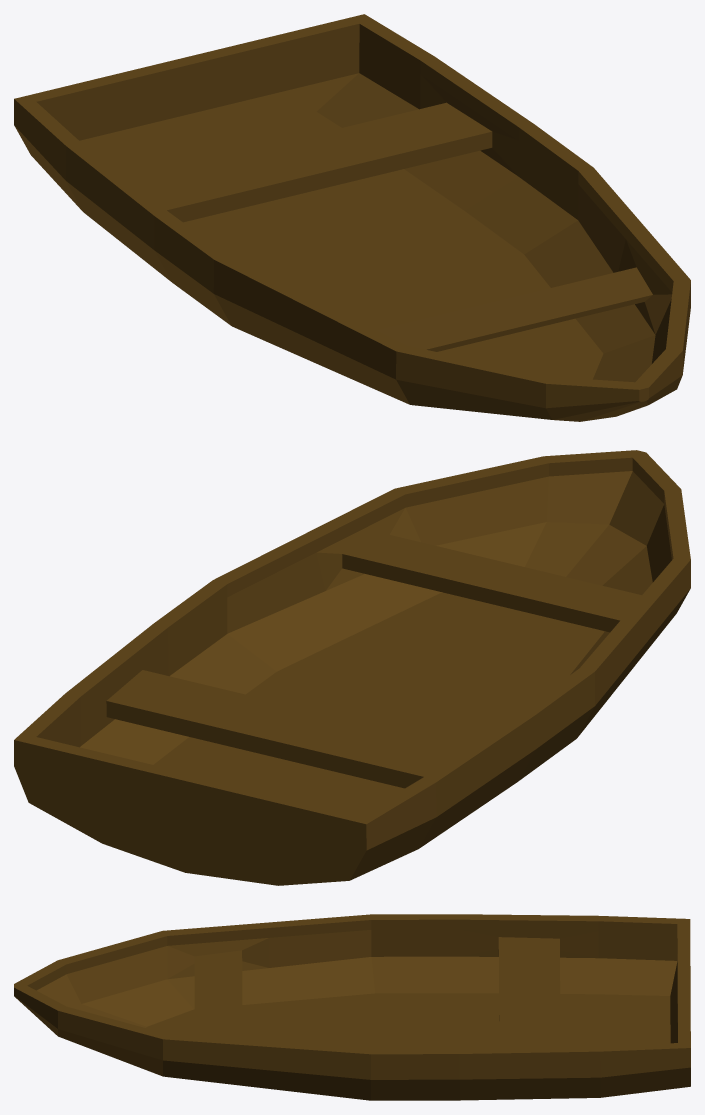
The model's file is Boat1_v1.0.fbx.
The picture shows the model from 3 angles, top to bottom: view 1: azimuth 30°, elevation 25°; view 2: azimuth 150°, elevation 25°; view 3: azimuth 270°, elevation 25°; orthographic projection. The views are drawn at different scales.
Parts seen in each view (by area): view 1: Boat; view 2: Boat; view 3: Boat.
Boxes of the visible parts, x1,y1,x2,y2 form: Boat: (14,14,690,421); Boat: (14,450,690,885); Boat: (14,914,690,1100).
Bounding box in the file's own units: 759 × 203 × 1562.
